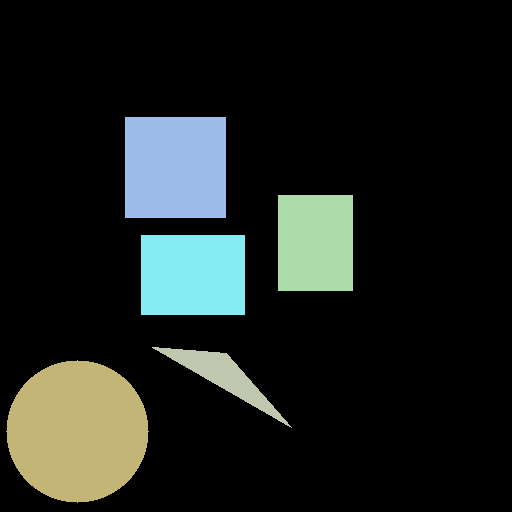circle: (6, 360, 148, 502)
rectangle: (141, 235, 244, 314), (278, 195, 352, 290)
square: (125, 117, 225, 217)
triangle: (152, 347, 291, 427)
